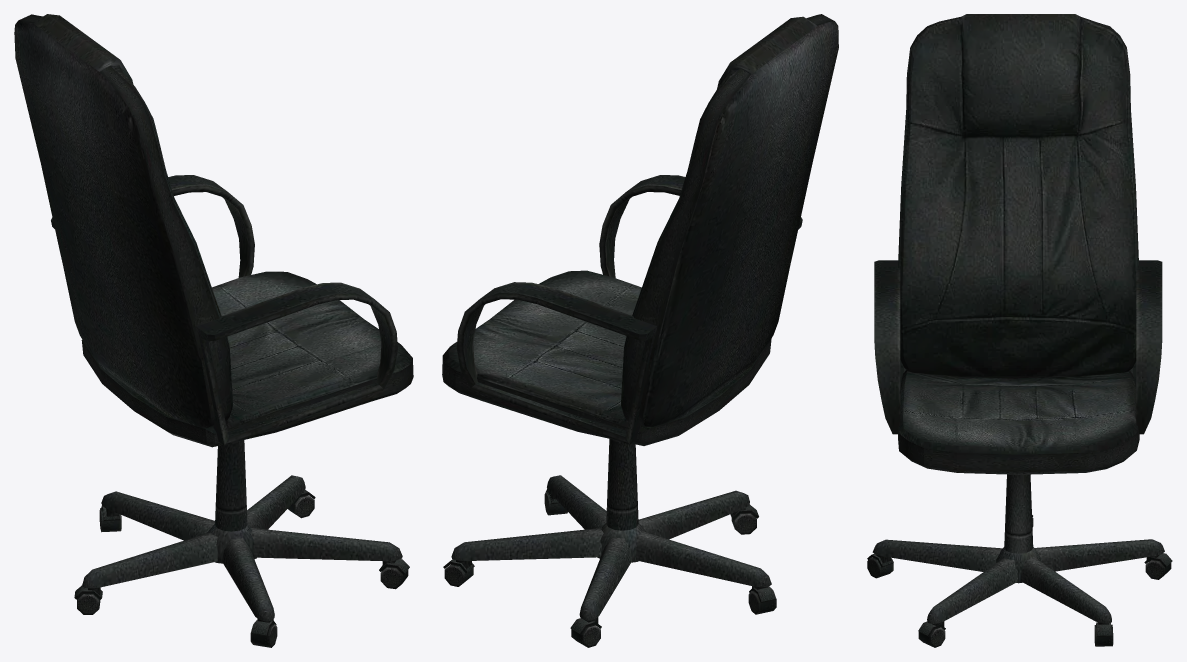
The model's file is chair_office.glb.
3 renders of one model, left to right at view 1: azimuth 30°, elevation 25°; view 2: azimuth 150°, elevation 25°; view 3: azimuth 270°, elevation 25°, orthographic. The views are drawn at different scales.
Parts seen in each view (by area): view 1: 0_Chair_office; view 2: 0_Chair_office; view 3: 0_Chair_office.
Part boxes in pixels (x1,y1,x2,y2): 0_Chair_office: (14,14,413,647); 0_Chair_office: (442,14,838,647); 0_Chair_office: (867,14,1172,647).
Bounding box in the file's own units: 0.663 × 1.21 × 0.6498.
1 material, 1 textured.
